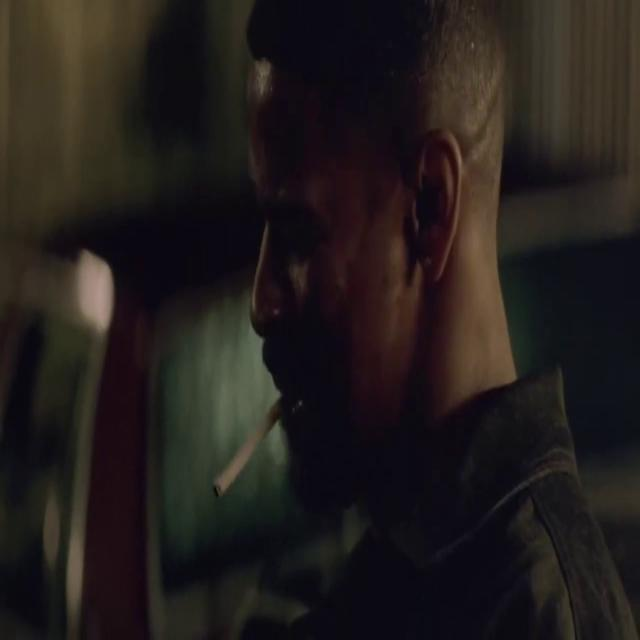Smooking: (201, 387, 288, 508)
